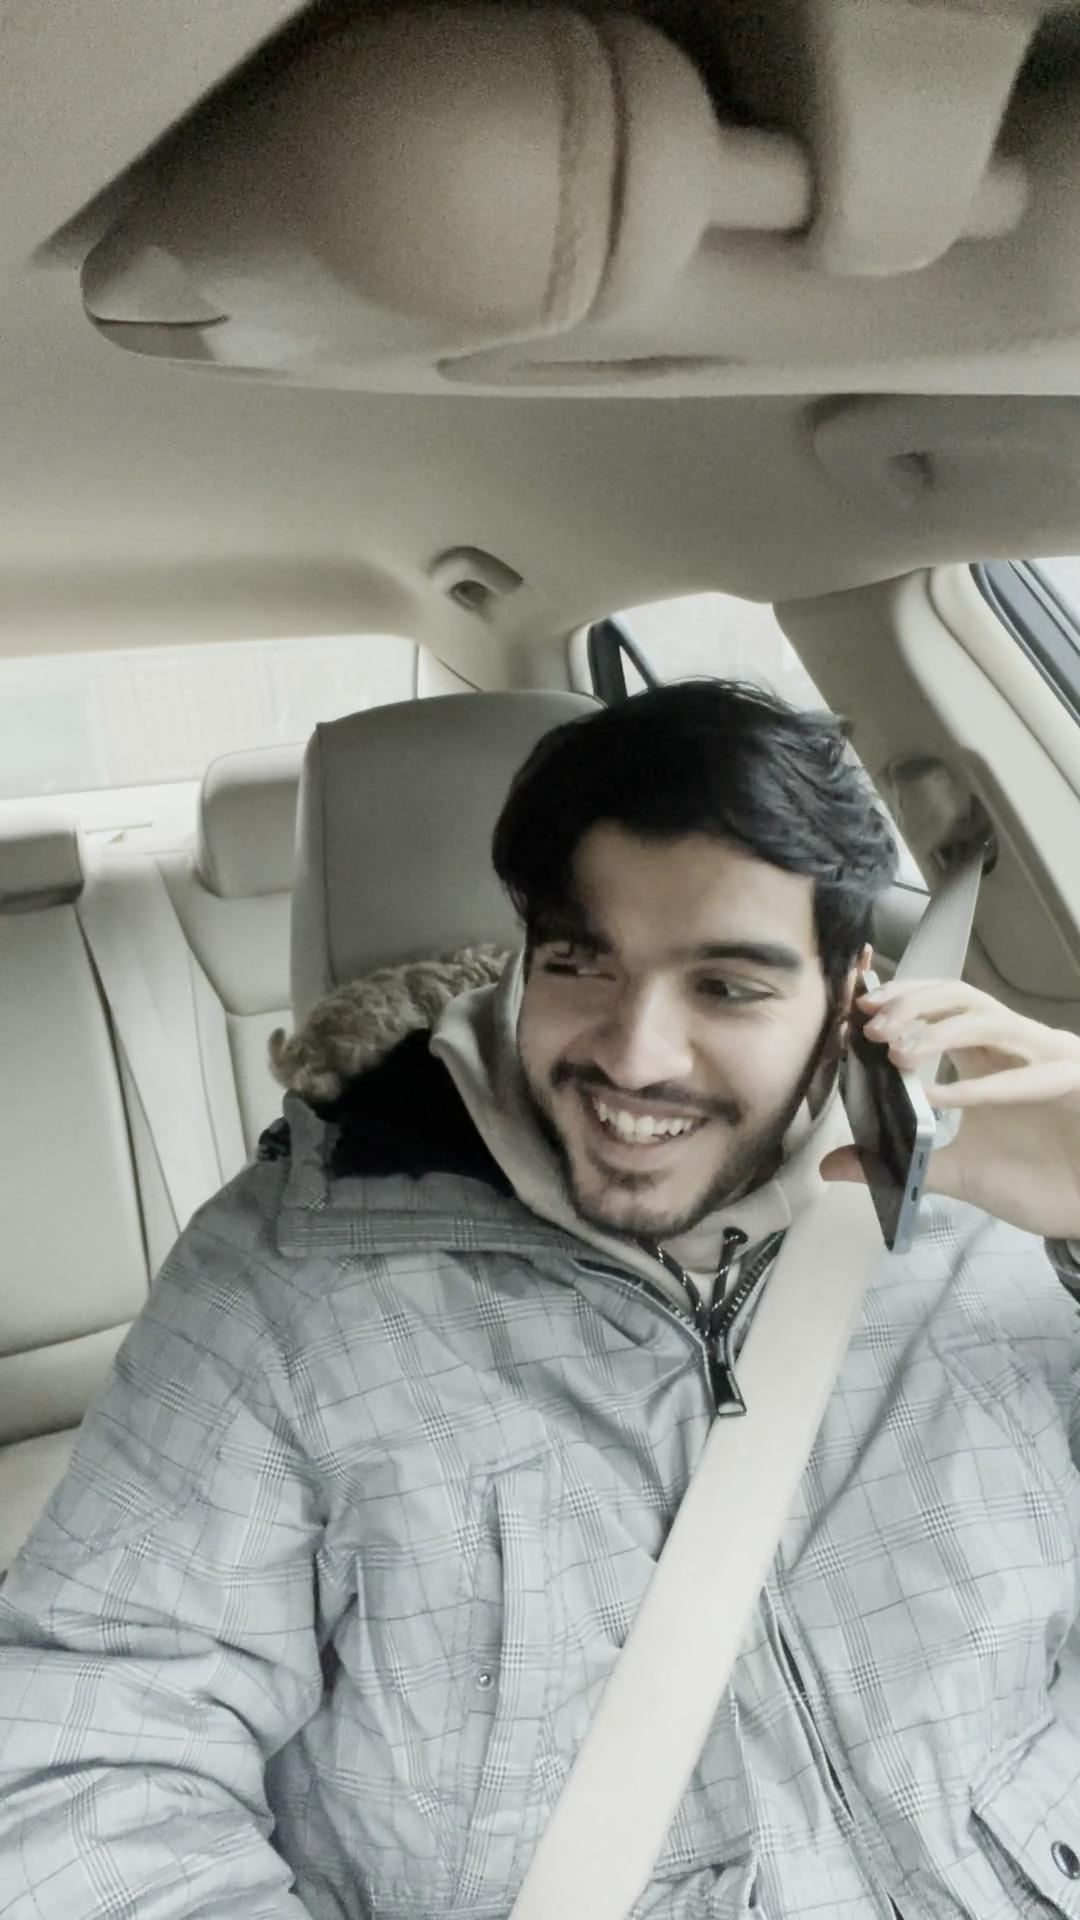inattentive: (469, 675, 876, 1211)
mobile: (840, 1000, 935, 1261)
